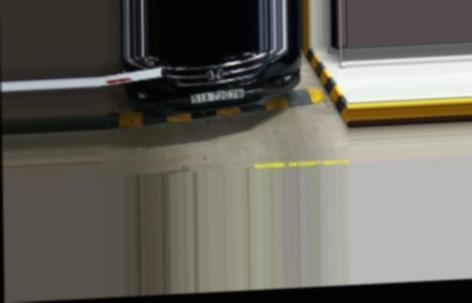License_Plate: (189, 85, 246, 104)
